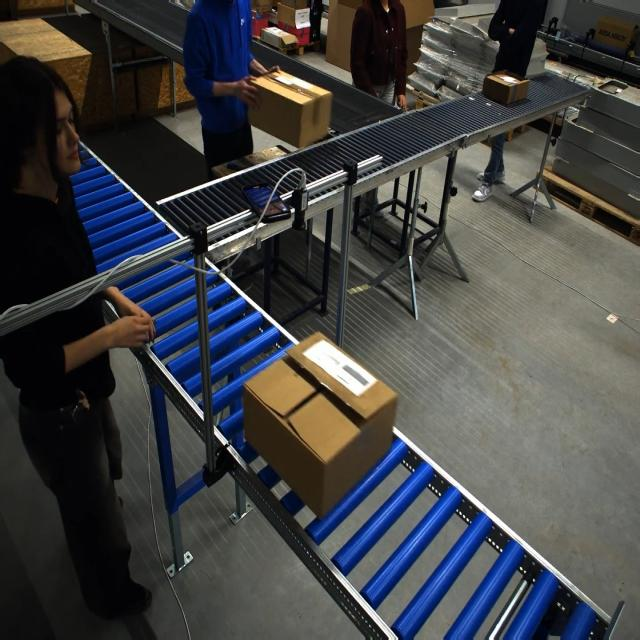box: (247, 335, 389, 515), (245, 67, 327, 150), (481, 69, 531, 106)
